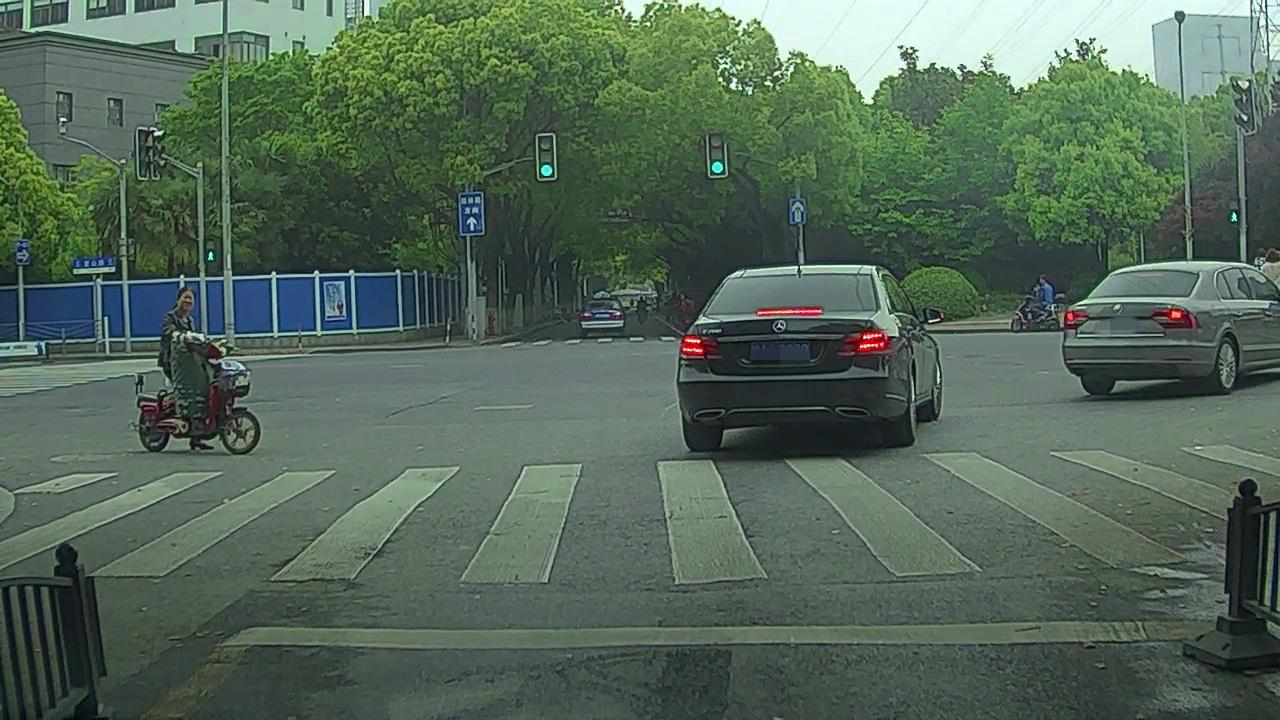traffic_light: (705, 133, 728, 178), (537, 136, 554, 177)
